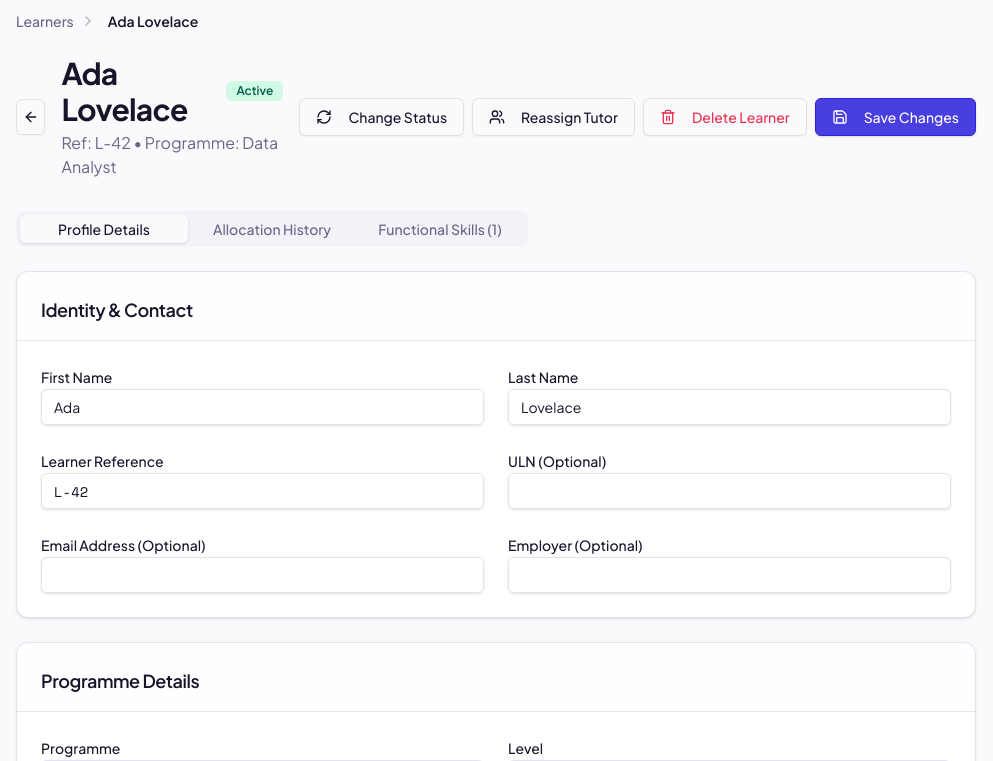
it: LearnerDetailPage for an existing learner › Functional Skills tab › lists existing enrollments and shows an Enroll action for admins
Click the tab "Functional Skills (1)" at (440, 229), box [356,215,524,243]
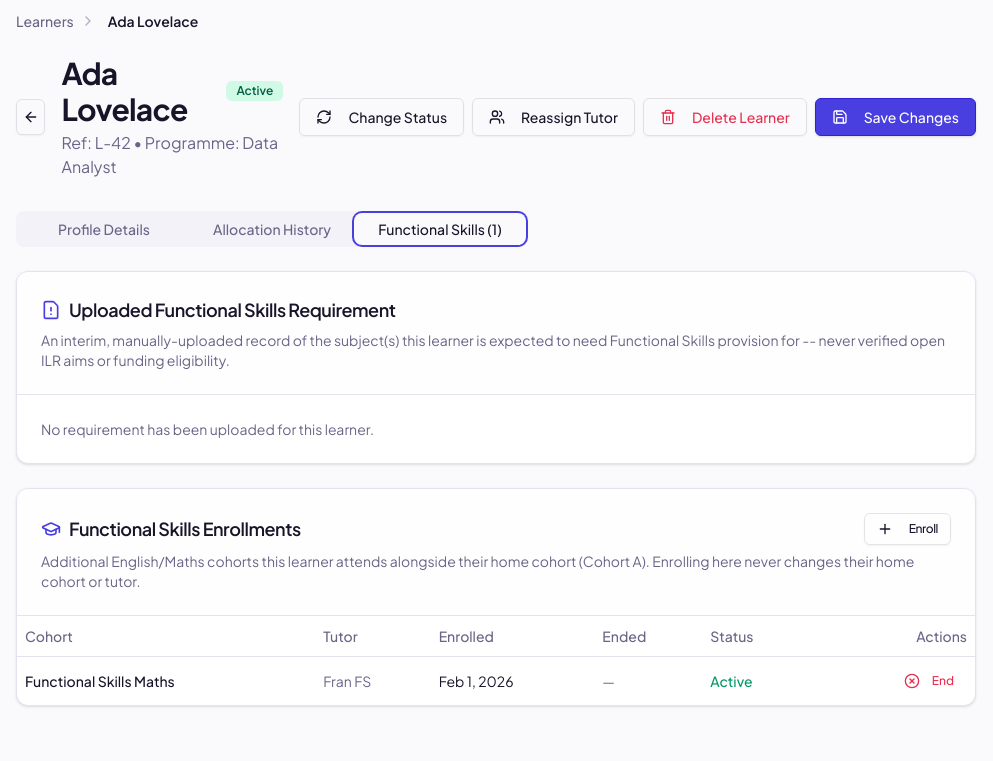
Check: the text "Functional Skills Maths" is shown, box [17,656,315,704]
Check: the text "Fran FS" is shown, box [315,656,431,704]
Check: the button "Enroll" is shown, box [864,513,951,545]
